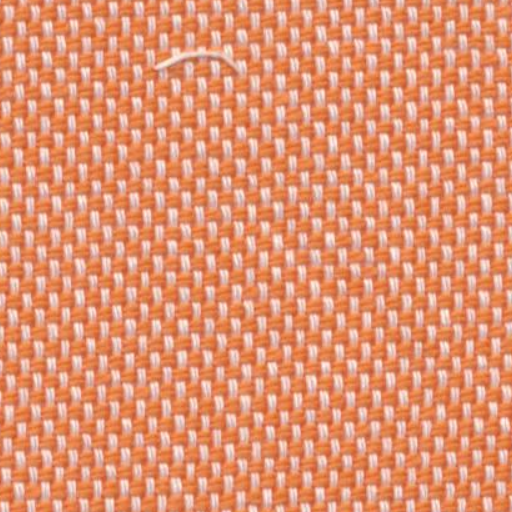DuanSha: (136, 43, 260, 94)
